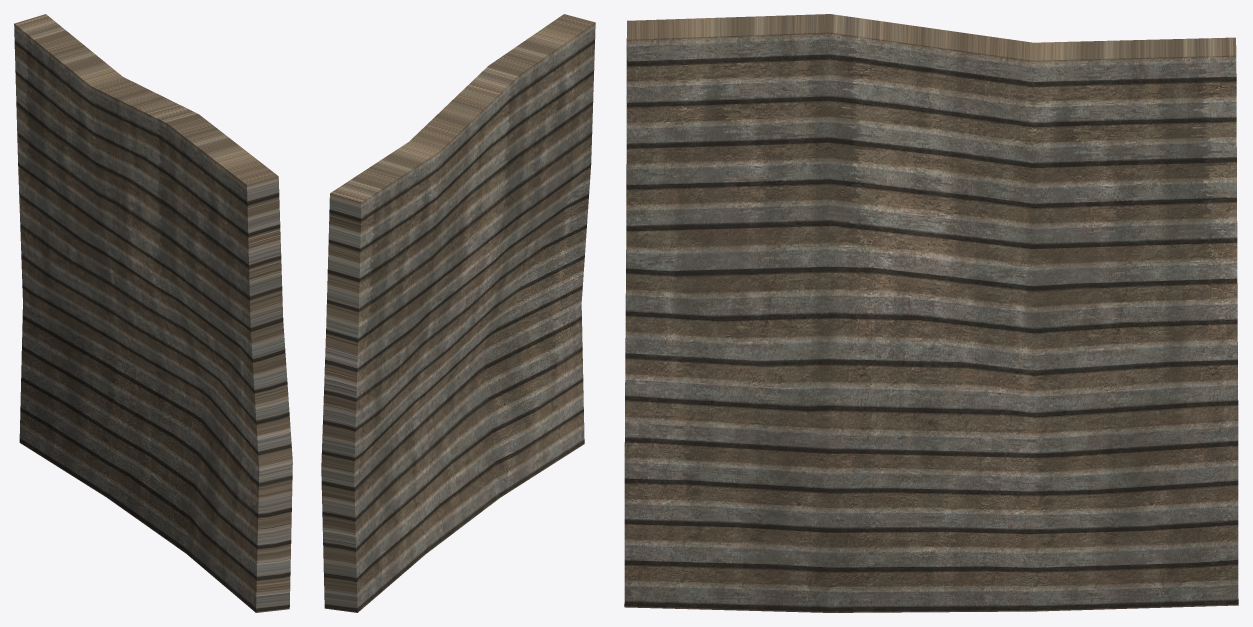
3 renders of one model, left to right at view 1: azimuth 30°, elevation 25°; view 2: azimuth 150°, elevation 25°; view 3: azimuth 270°, elevation 25°, orthographic. The views are drawn at different scales.
Parts seen in each view (by area): view 1: Cube002_Material002_0; view 2: Cube002_Material002_0; view 3: Cube002_Material002_0.
Boxes of the visible parts, box(x1,y1,x2,y2) form: Cube002_Material002_0: box(14, 14, 292, 612); Cube002_Material002_0: box(321, 14, 595, 612); Cube002_Material002_0: box(624, 14, 1238, 612).
Bounding box in the file's own units: 0.4224 × 2.57 × 2.52.
Materials: 1 (1 with a texture image).
